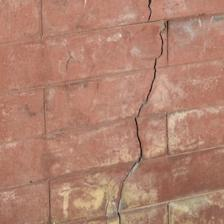Crack: (46, 33, 126, 113), (93, 0, 130, 28), (0, 126, 46, 148)
